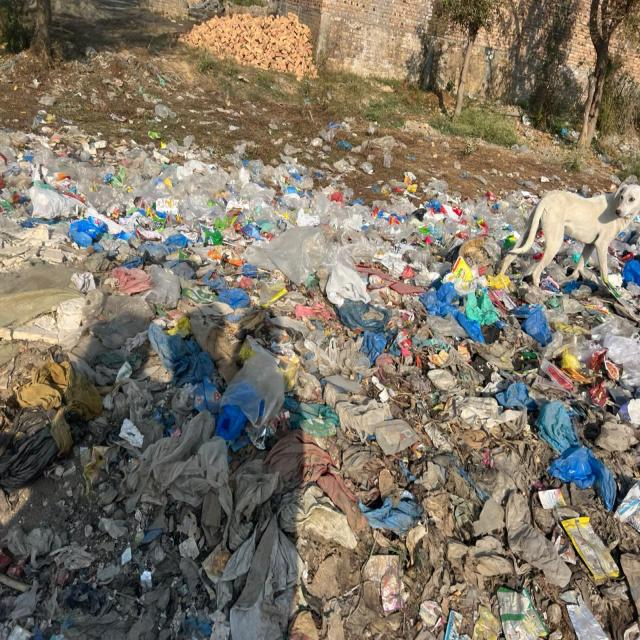garbage: (2, 171, 640, 640)
